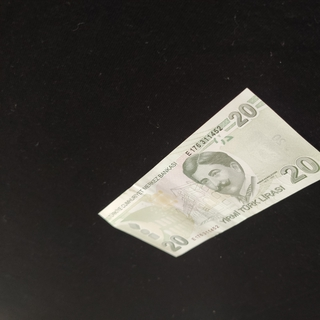20TLBack: (97, 87, 320, 258)
